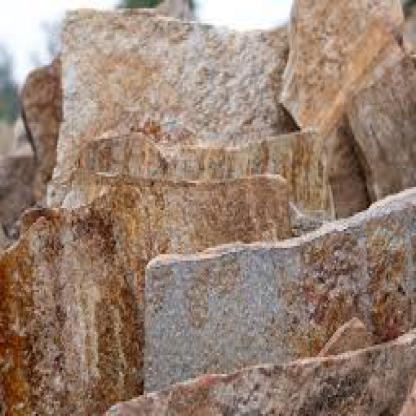Metamorphic_Quartize: (56, 5, 358, 174), (132, 212, 414, 374)
